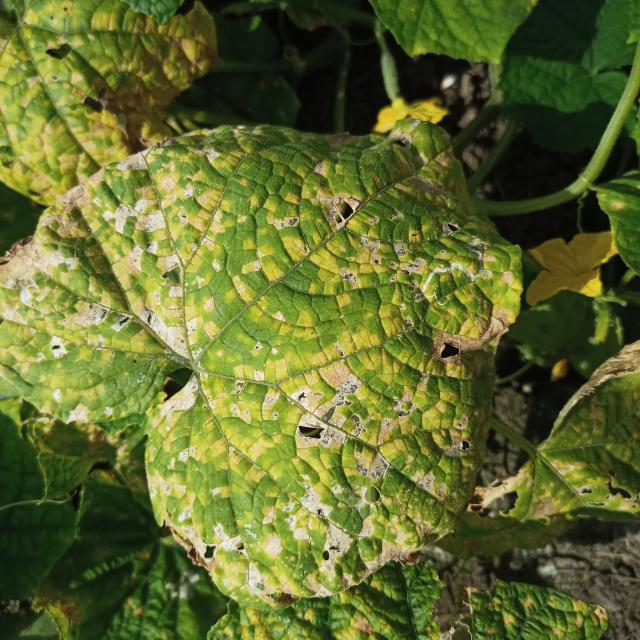disease_cucumber: (4, 124, 533, 586), (0, 0, 212, 198)
